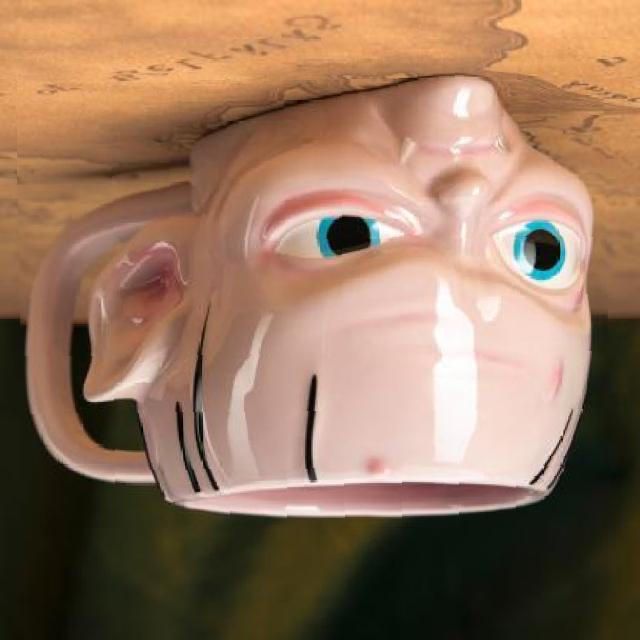cup: (16, 64, 611, 528)
